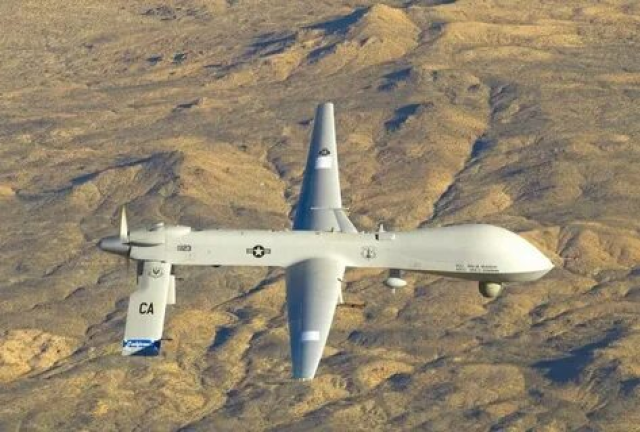military drone: (96, 101, 553, 381)
